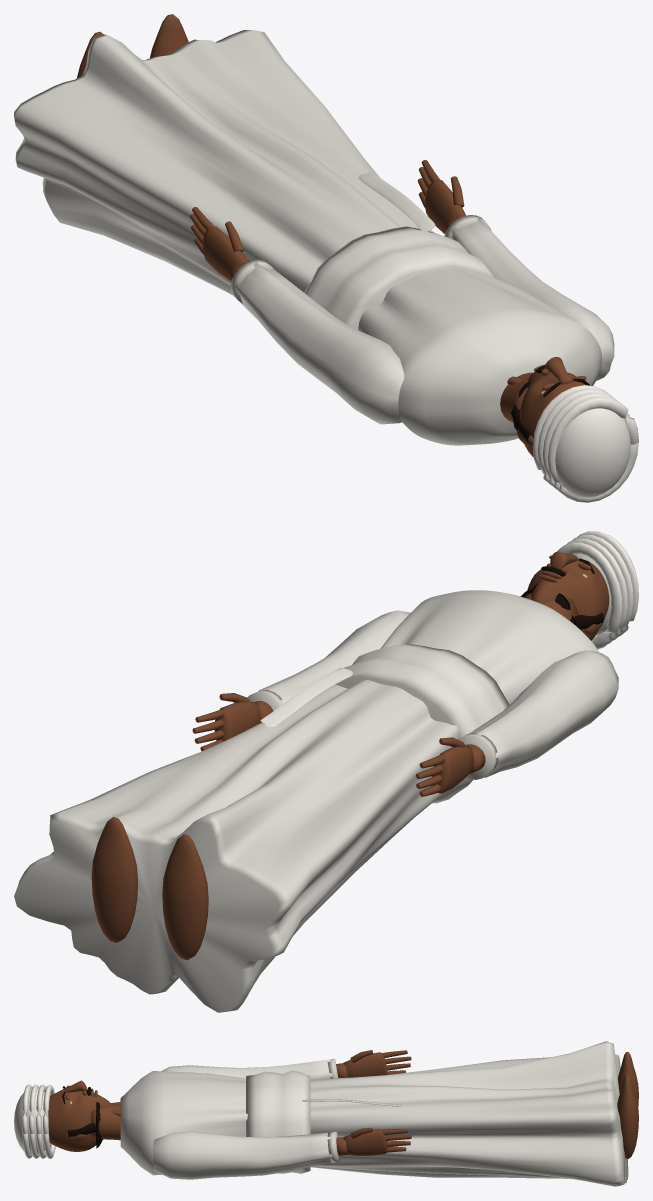
The model's file is SM_V3_Kohen_White.obj.
3 views of the same model, one above another, from view 1: azimuth 30°, elevation 25°; view 2: azimuth 150°, elevation 25°; view 3: azimuth 270°, elevation 25° (orthographic). The views are drawn at different scales.
Parts seen in each view (by area): view 1: Tunic, SleeveR, Sash, TurbanCrown, SleeveL, TurbanBand3, Head, PalmR, SashTail, PalmL, FootL, TurbanBand2 (+3 smaller); view 2: Tunic, SleeveR, Sash, FootR, FootL, SleeveL, Head, TurbanBand0, SashTail, PalmL, PalmR, CuffR (+3 smaller); view 3: Tunic, SleeveL, Sash, Head, SleeveR, FootL, PalmL, TurbanCrown, PalmR, Neck, TurbanBand0, FootR (+6 smaller).
Boxes of the visible parts, x1,y1,x2,y2 form: Tunic: [14, 30, 602, 445]; SleeveR: [235, 262, 404, 424]; Sash: [304, 226, 494, 329]; TurbanCrown: [555, 408, 630, 497]; SleeveL: [451, 218, 614, 380]; TurbanBand3: [548, 397, 638, 502]; Head: [520, 371, 586, 456]; PalmR: [202, 226, 248, 281]; SashTail: [358, 171, 435, 231]; PalmL: [425, 179, 465, 233]; FootL: [150, 14, 188, 58]; TurbanBand2: [542, 393, 629, 493]; Tunic: [14, 590, 599, 1012]; SleeveR: [468, 650, 618, 777]; Sash: [335, 644, 509, 803]; FootR: [162, 834, 208, 960]; FootL: [91, 817, 138, 942]; SleeveL: [258, 610, 410, 704]; Head: [527, 559, 609, 640]; TurbanBand0: [550, 542, 622, 649]; SashTail: [260, 667, 352, 726]; PalmL: [214, 701, 261, 741]; PalmR: [432, 746, 473, 793]; CuffR: [458, 733, 498, 779]; Tunic: [120, 1041, 628, 1186]; SleeveL: [153, 1131, 332, 1179]; Sash: [246, 1070, 310, 1173]; Head: [48, 1089, 111, 1151]; SleeveR: [161, 1059, 332, 1079]; FootL: [617, 1075, 638, 1158]; PalmL: [343, 1129, 387, 1155]; TurbanCrown: [14, 1088, 48, 1155]; PalmR: [343, 1052, 387, 1077]; Neck: [91, 1103, 120, 1140]; TurbanBand0: [43, 1084, 55, 1158]; FootR: [618, 1052, 638, 1105].
Bounding box in the file's own units: 61.94 × 39.78 × 184.
